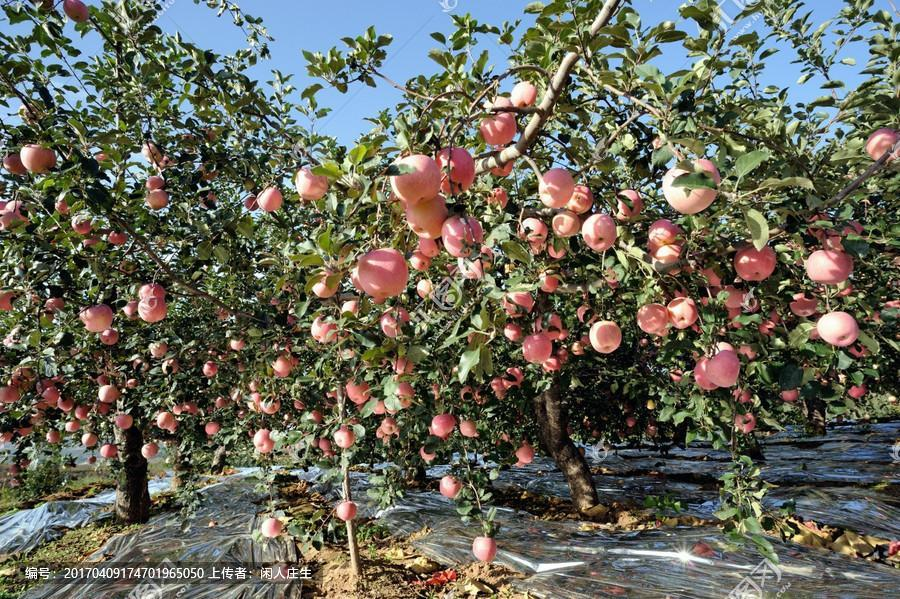apple: (355, 248, 409, 300), (388, 151, 441, 202), (734, 241, 778, 280), (808, 246, 853, 283), (535, 166, 573, 208), (477, 109, 519, 146), (819, 309, 860, 345), (404, 205, 447, 237), (706, 348, 740, 387), (581, 214, 617, 249), (296, 167, 329, 202), (18, 142, 55, 172), (589, 319, 621, 353), (522, 330, 553, 364), (78, 302, 113, 331), (669, 295, 697, 330), (636, 304, 667, 333), (508, 82, 540, 110), (308, 314, 339, 342), (60, 1, 92, 23), (253, 428, 278, 453), (346, 380, 371, 404), (410, 251, 431, 274)
